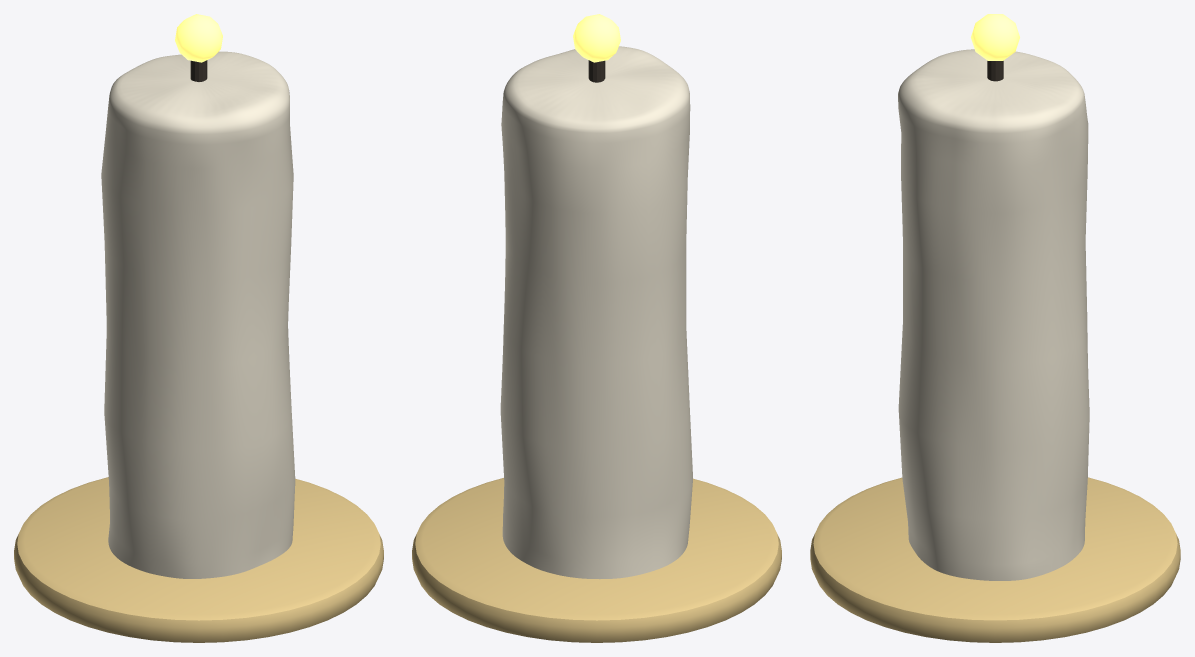
Rendered from candle.glb.
The picture shows the model from 3 angles, left to right: view 1: azimuth 30°, elevation 25°; view 2: azimuth 150°, elevation 25°; view 3: azimuth 270°, elevation 25°; orthographic projection.
Visible parts, largest first — view 1: Candle_Body, Candle_Dish, Candle_Ember; view 2: Candle_Body, Candle_Dish, Candle_Ember; view 3: Candle_Body, Candle_Dish, Candle_Ember.
Boxes of the visible parts, bbox=[...] form: Candle_Body: bbox=[101, 51, 295, 578]; Candle_Dish: bbox=[14, 477, 383, 642]; Candle_Ember: bbox=[175, 14, 222, 62]; Candle_Body: bbox=[500, 46, 692, 579]; Candle_Dish: bbox=[412, 478, 781, 642]; Candle_Ember: bbox=[573, 14, 620, 62]; Candle_Body: bbox=[898, 49, 1089, 580]; Candle_Dish: bbox=[810, 477, 1180, 642]; Candle_Ember: bbox=[971, 14, 1019, 60].
Size of the model in its own units: 0.18 by 0.2983 by 0.18.
